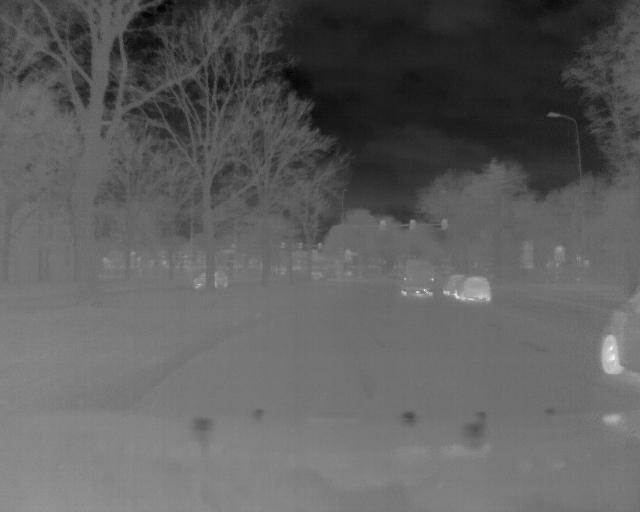car: (602, 280, 640, 383), (398, 255, 438, 300), (456, 275, 490, 302), (193, 269, 230, 291), (443, 274, 468, 297)
